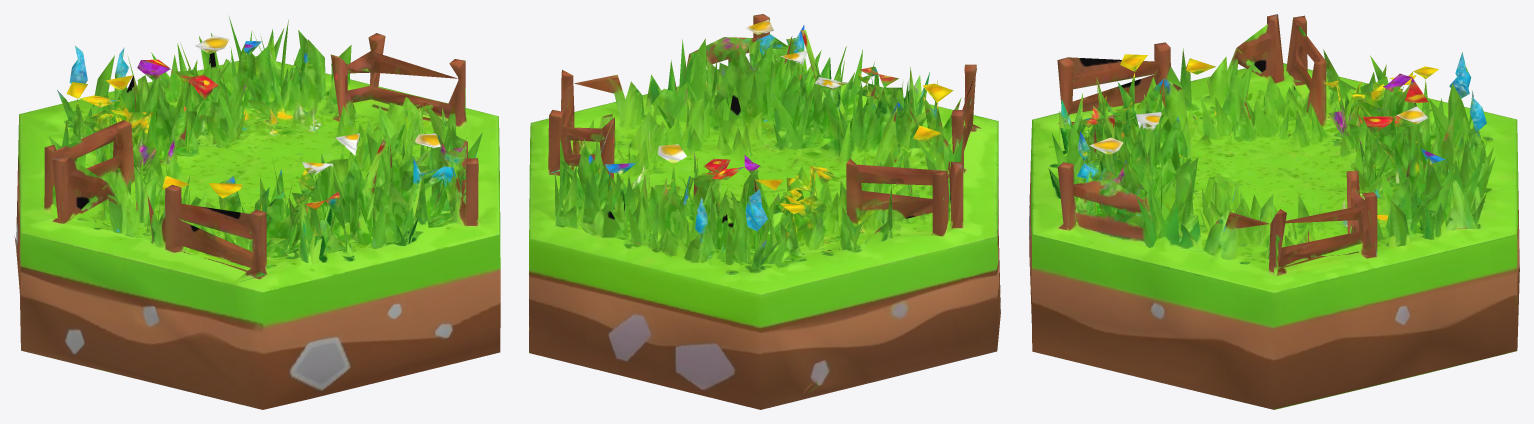
File: meadowtile_lv4.glb
3 views of the same model, side by side, from view 1: azimuth 30°, elevation 25°; view 2: azimuth 150°, elevation 25°; view 3: azimuth 270°, elevation 25° (orthographic). The views are drawn at different scales.
Parts seen in each view (by area): view 1: Mesh1.0; view 2: Mesh1.0; view 3: Mesh1.0.
Part boxes in pixels (<box>): Mesh1.0: <box>14,17,500,409</box>; Mesh1.0: <box>529,14,1000,409</box>; Mesh1.0: <box>1029,14,1519,409</box>.
Size of the model in its own units: 1.91 by 0.7704 by 1.71.
1 material, 1 textured.
